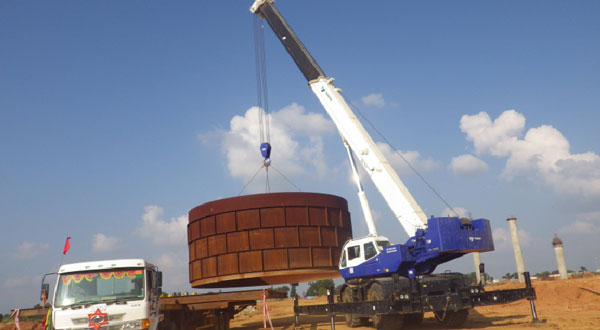crane: (243, 1, 512, 322)
